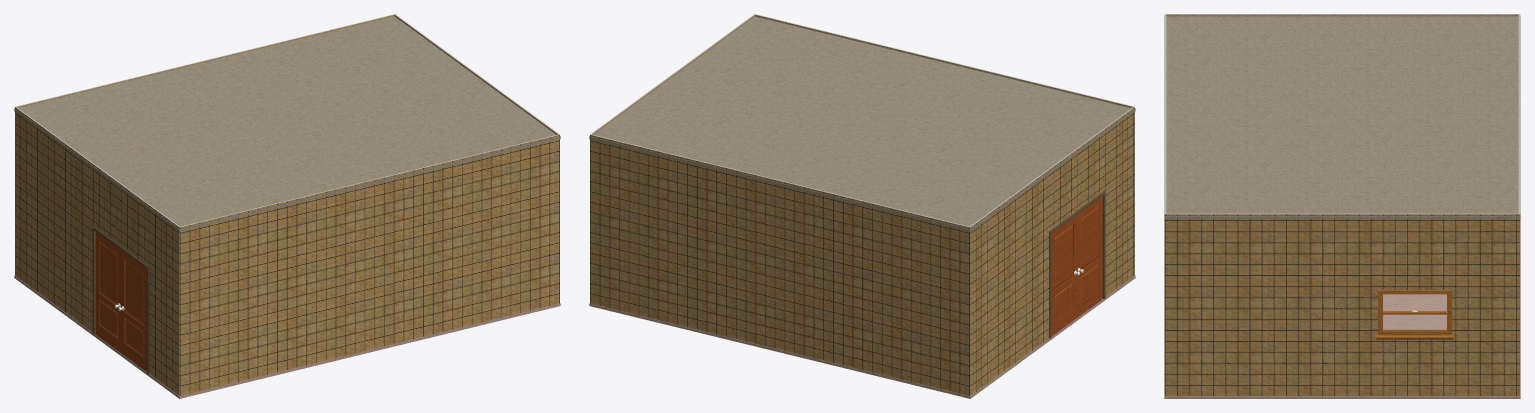
Rendered from ProcTHOR-Train-133.glb.
3 views of the same model, side by side, from view 1: azimuth 30°, elevation 25°; view 2: azimuth 150°, elevation 25°; view 3: azimuth 270°, elevation 25° (orthographic). The views are drawn at different scales.
Parts seen in each view (by area): view 1: WallInside#wall|exterior|0.00|5.85|7.80|5.85, Ceiling#room|2|c, WallInside#wall|exterior|7.80|0.00|7.80|5.85, Doorway_Door_4b, Doorway_Door_4a, Floor#room|2|f, WallInside#wall|2|0.00|0.00|7.80|0.00, Doorway_Double_4, WallInside#wall|2|0.00|0.00|0.00|5.85; view 2: WallInside#wall|exterior|0.00|0.00|7.80|0.00, Ceiling#room|2|c, WallInside#wall|exterior|7.80|0.00|7.80|5.85, Doorway_Door_4b, Doorway_Door_4a, Floor#room|2|f, WallInside#wall|2|0.00|5.85|7.80|5.85, Doorway_Double_4, WallInside#wall|2|0.00|0.00|0.00|5.85; view 3: Ceiling#room|2|c, WallInside#wall|exterior|0.00|0.00|0.00|5.85, Floor#room|2|f, Window_Hung_48x32, WallInside#wall|2|7.80|0.00|7.80|5.85, WallInside#wall|2|0.00|5.85|7.80|5.85, WallInside#wall|2|0.00|0.00|7.80|0.00, WallInside#wall|exterior|0.00|5.85|7.80|5.85, WallInside#wall|exterior|0.00|0.00|7.80|0.00, WallInside#wall|2|0.00|0.00|0.00|5.85, WallInside#wall|exterior|7.80|0.00|7.80|5.85.
Boxes of the visible parts, bbox=[...] form: WallInside#wall|exterior|0.00|5.85|7.80|5.85: bbox=[179, 134, 559, 395]; Ceiling#room|2|c: bbox=[14, 16, 560, 231]; WallInside#wall|exterior|7.80|0.00|7.80|5.85: bbox=[15, 106, 179, 395]; Doorway_Door_4b: bbox=[95, 232, 121, 352]; Doorway_Door_4a: bbox=[121, 251, 146, 371]; Floor#room|2|f: bbox=[14, 275, 560, 398]; WallInside#wall|2|0.00|0.00|7.80|0.00: bbox=[16, 14, 395, 108]; Doorway_Double_4: bbox=[92, 226, 149, 373]; WallInside#wall|2|0.00|0.00|0.00|5.85: bbox=[394, 14, 558, 134]; WallInside#wall|exterior|0.00|0.00|7.80|0.00: bbox=[590, 134, 970, 395]; Ceiling#room|2|c: bbox=[589, 16, 1135, 231]; WallInside#wall|exterior|7.80|0.00|7.80|5.85: bbox=[970, 107, 1134, 395]; Doorway_Door_4b: bbox=[1051, 215, 1076, 336]; Doorway_Door_4a: bbox=[1077, 196, 1102, 317]; Floor#room|2|f: bbox=[589, 275, 1135, 398]; WallInside#wall|2|0.00|5.85|7.80|5.85: bbox=[755, 14, 1133, 108]; Doorway_Double_4: bbox=[1049, 190, 1105, 338]; WallInside#wall|2|0.00|0.00|0.00|5.85: bbox=[591, 14, 755, 134]; Ceiling#room|2|c: bbox=[1164, 16, 1520, 218]; WallInside#wall|exterior|0.00|0.00|0.00|5.85: bbox=[1164, 214, 1520, 395]; Floor#room|2|f: bbox=[1164, 219, 1520, 398]; Window_Hung_48x32: bbox=[1376, 290, 1453, 339]; WallInside#wall|2|7.80|0.00|7.80|5.85: bbox=[1165, 14, 1519, 16]; WallInside#wall|2|0.00|5.85|7.80|5.85: bbox=[1165, 14, 1166, 213]; WallInside#wall|2|0.00|0.00|7.80|0.00: bbox=[1518, 14, 1519, 213]; WallInside#wall|exterior|0.00|5.85|7.80|5.85: bbox=[1164, 14, 1165, 213]; WallInside#wall|exterior|0.00|0.00|7.80|0.00: bbox=[1519, 14, 1520, 213]; WallInside#wall|2|0.00|0.00|0.00|5.85: bbox=[1166, 213, 1518, 213]; WallInside#wall|exterior|7.80|0.00|7.80|5.85: bbox=[1166, 14, 1518, 14].
Size of what is drawn, in the model's own units: 8.02 by 3.36 by 5.89.
Materials: 73 (41 with a texture image).
